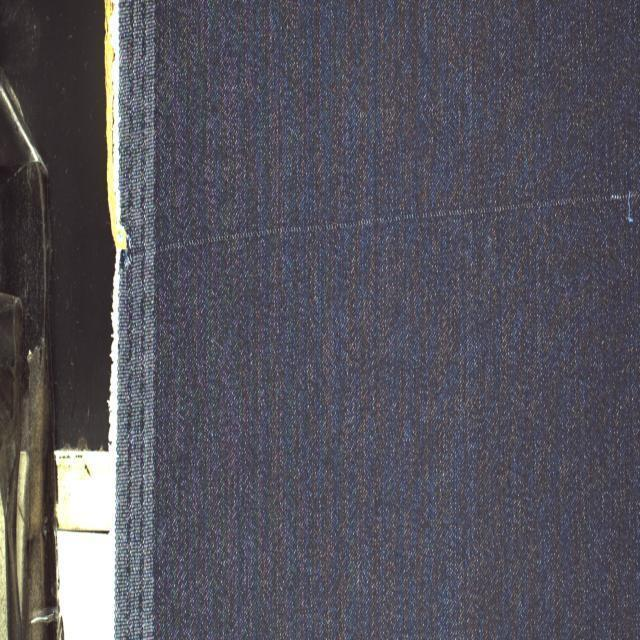pulled_or_thick_thread: (117, 168, 639, 280)
